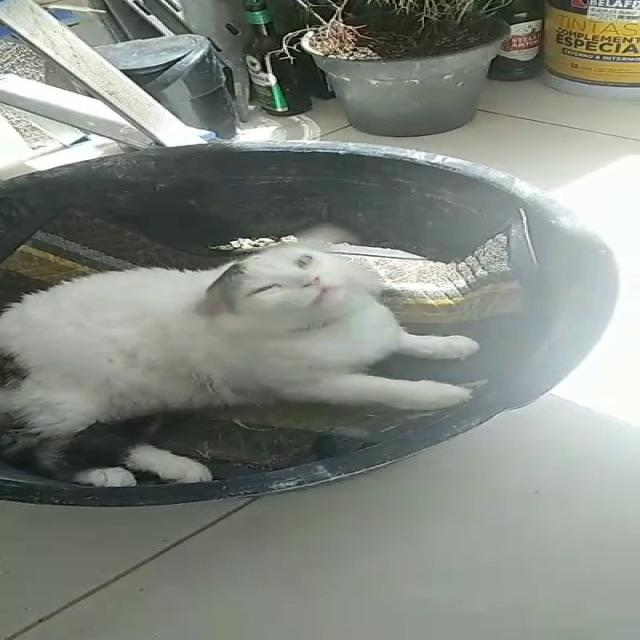Simba: (11, 205, 511, 512)
